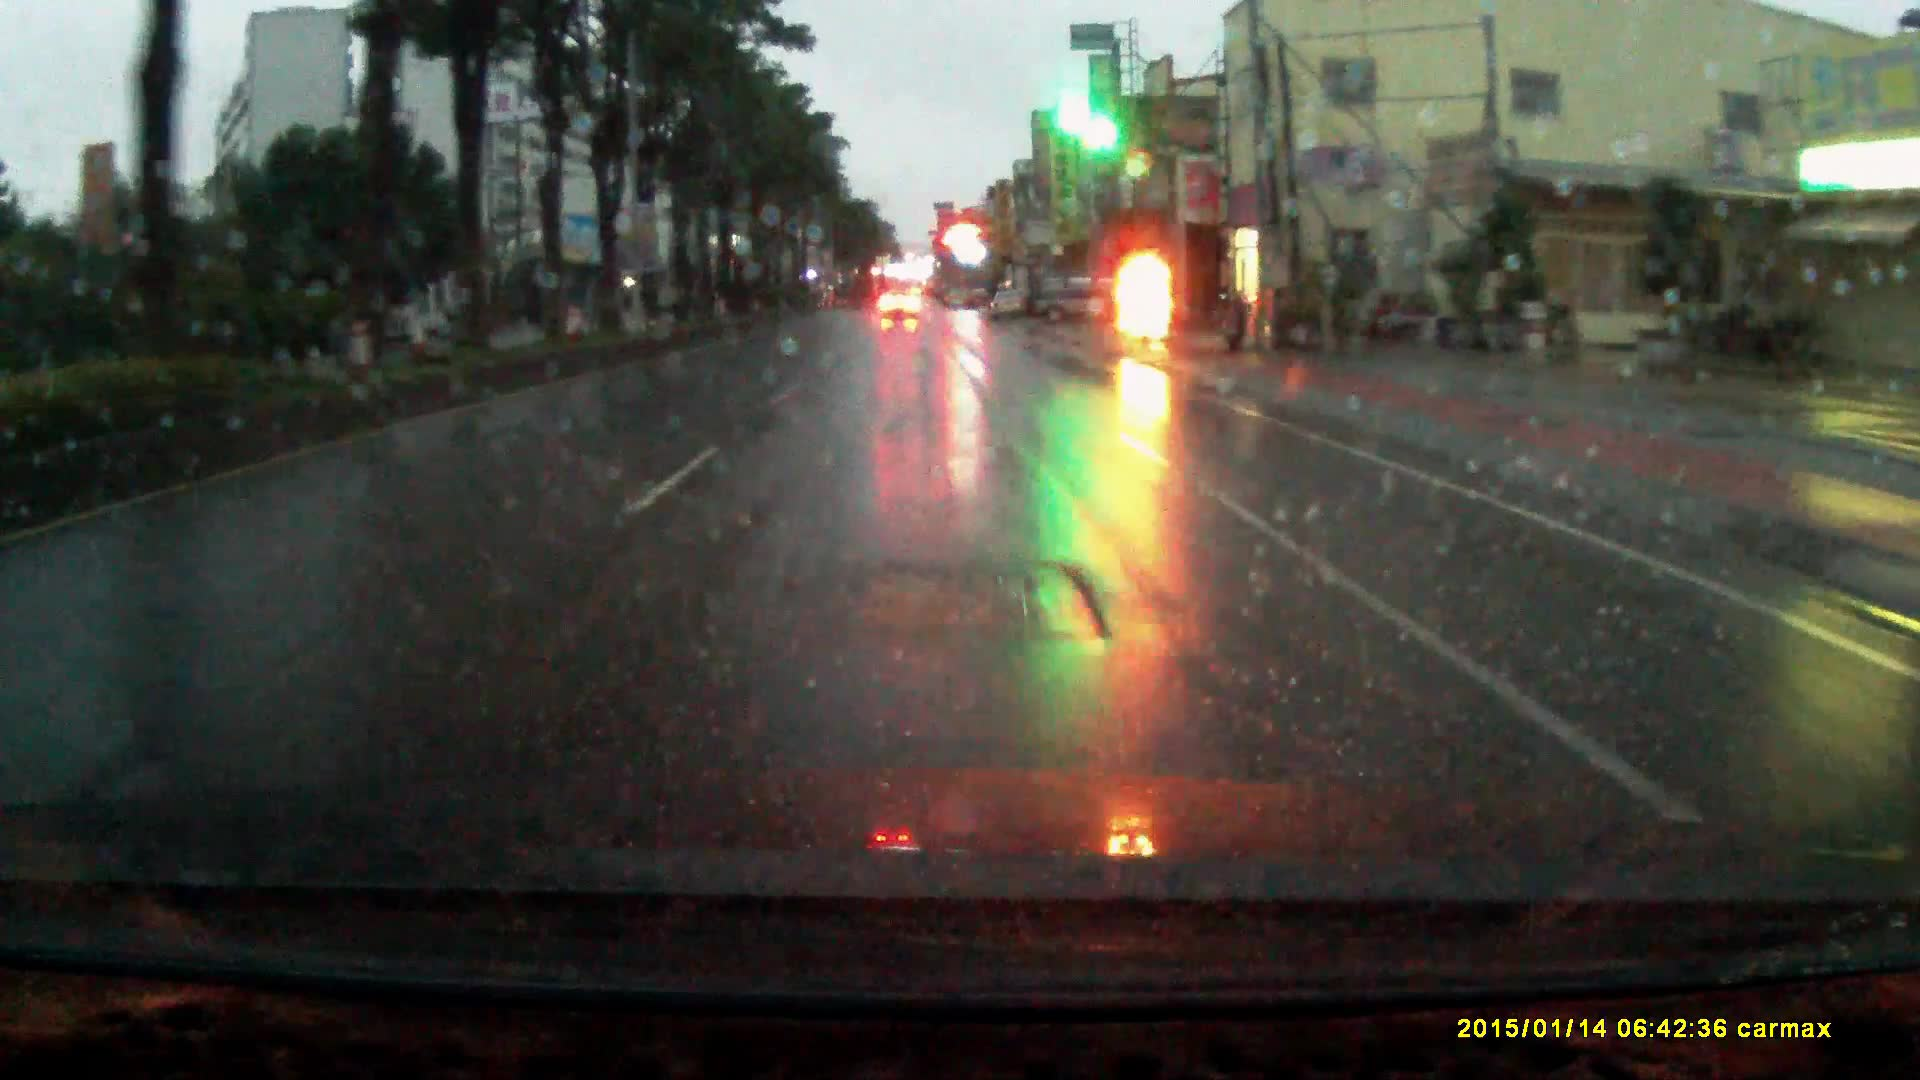vehicle: (1036, 272, 1130, 324), (880, 291, 924, 324)
